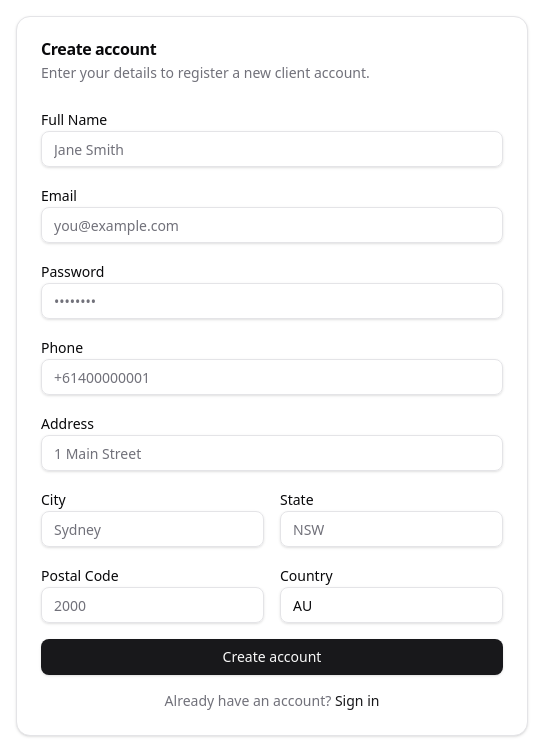
Scenario: RegisterPage › shows validation error for short full name
Type "A" into the field labelled "Full Name" at (272, 149), box [41, 131, 503, 167]
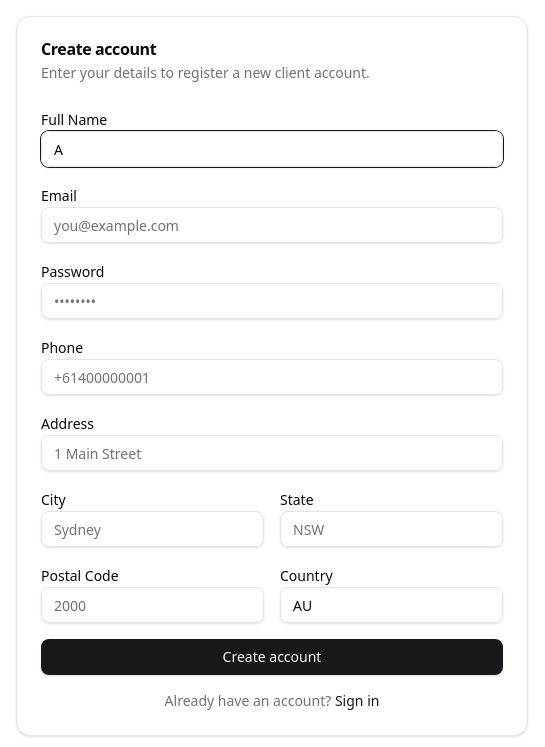
Click the button "Create account" at (272, 657), box [41, 639, 503, 675]
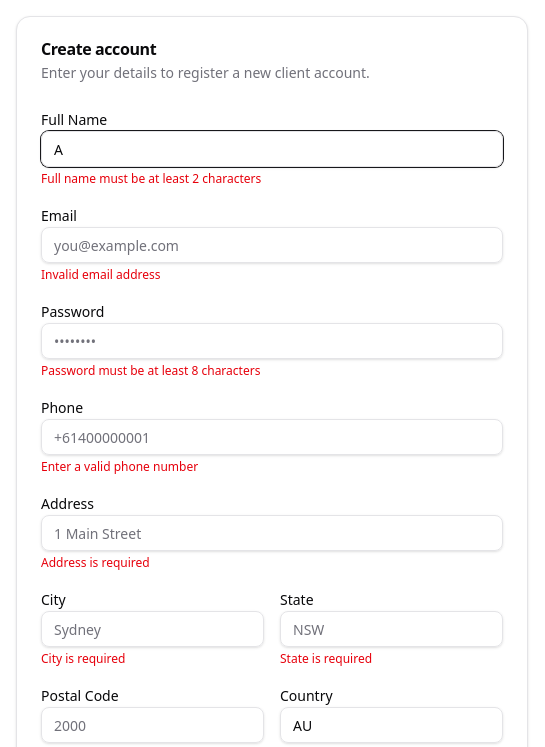
Result: the text "Full name must be at least 2 characters" is shown at [41, 170, 261, 187]
